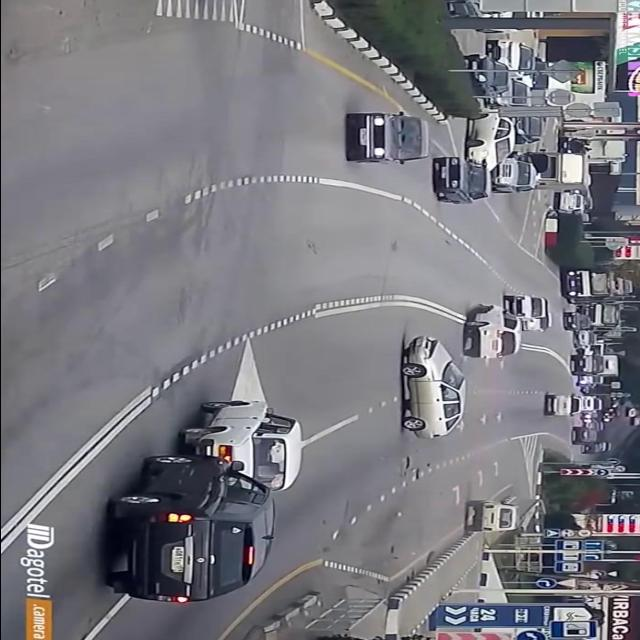non_accident: (93, 396, 311, 608), (423, 36, 597, 208), (387, 302, 525, 488)
